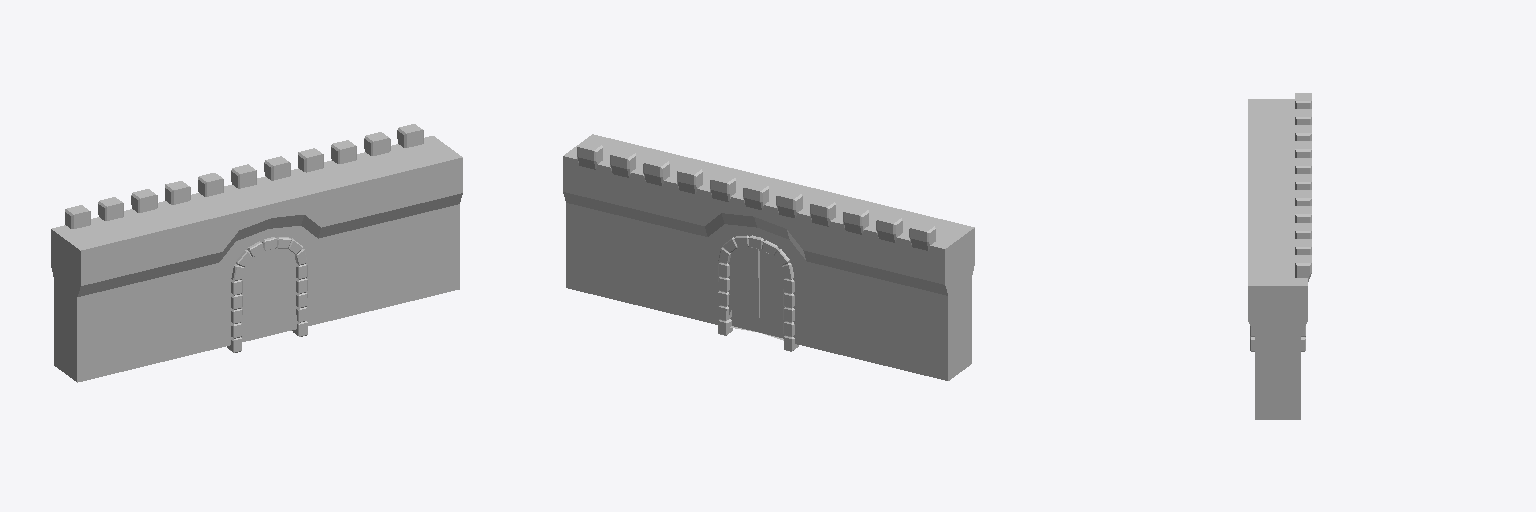
File: WallWithDoor.obj
The picture shows the model from 3 angles: view 1: azimuth 30°, elevation 25°; view 2: azimuth 150°, elevation 25°; view 3: azimuth 270°, elevation 25°; orthographic projection.
Visible parts, largest first — view 1: BaseWallSegment_Cube.001, Cube_Cube.002, BaseStone.001_Cube.004; view 2: BaseWallSegment_Cube.001, Cube_Cube.002, BaseStone.001_Cube.004; view 3: BaseWallSegment_Cube.001, Cube_Cube.002.
Part boxes in pixels (x1,y1,x2,y2): BaseWallSegment_Cube.001: (51, 136, 462, 382); Cube_Cube.002: (65, 124, 423, 228); BaseStone.001_Cube.004: (227, 237, 307, 352); BaseWallSegment_Cube.001: (563, 134, 974, 380); Cube_Cube.002: (577, 141, 935, 250); BaseStone.001_Cube.004: (718, 235, 798, 351); BaseWallSegment_Cube.001: (1248, 99, 1307, 419); Cube_Cube.002: (1295, 93, 1311, 281).
Bounding box in the file's own units: 26.18 × 10.22 × 3.77.